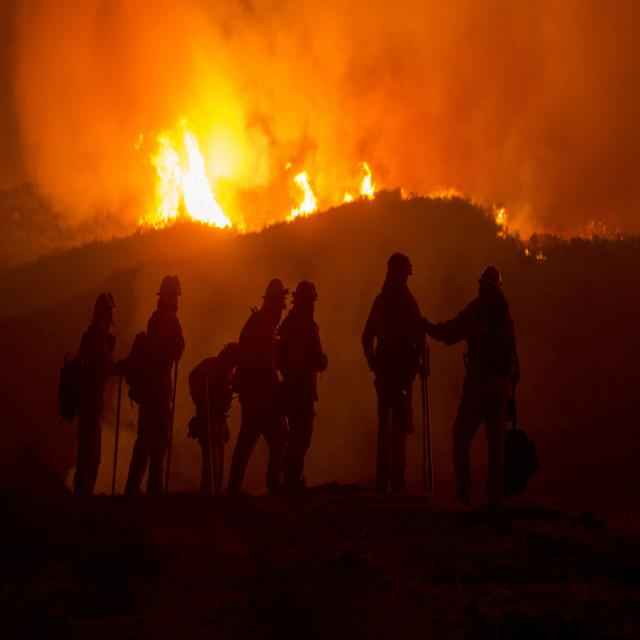Fire: (149, 120, 233, 229), (295, 174, 316, 211)
